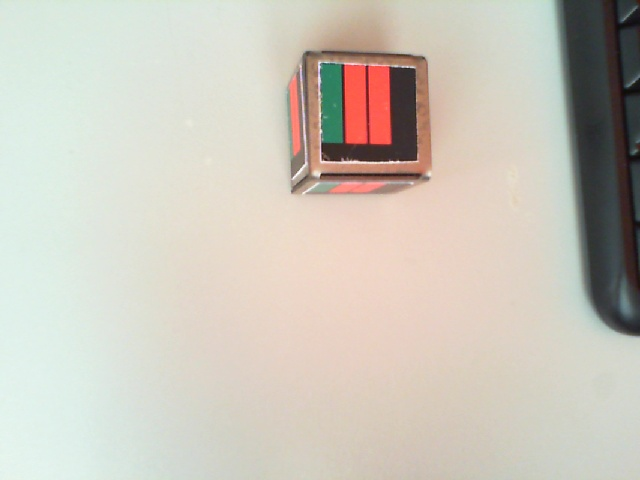square: (319, 62, 416, 162)
